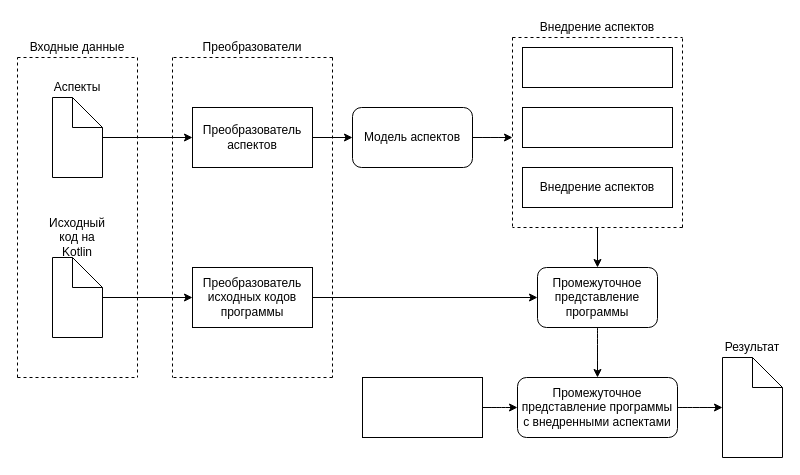
The diagram is 800 pixels wide and 475 high, and some of its shapes have lost their labels. Each missing label, with the box of its shape:
Компилятор промежуточного представления: (362, 376, 482, 438)
Разметка представления программы: (522, 46, 672, 88)
Формирование срезов: (522, 106, 672, 148)
